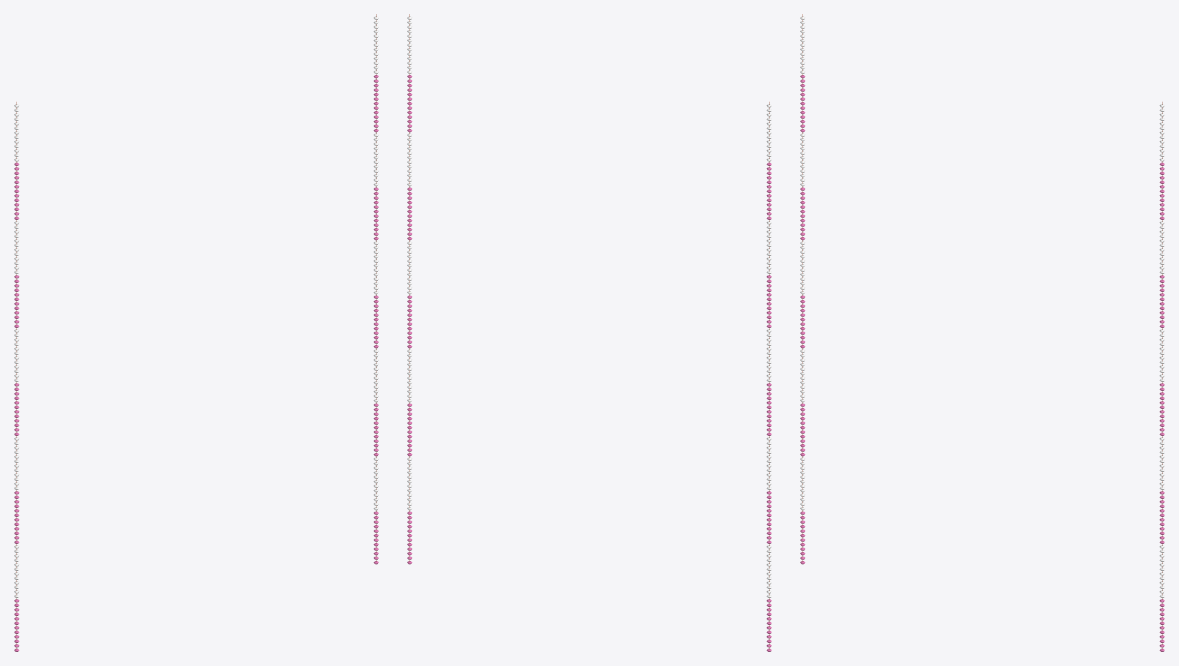
File: Straight_border_mesh.fbx
3 renders of one model, left to right at view 1: azimuth 30°, elevation 25°; view 2: azimuth 150°, elevation 25°; view 3: azimuth 330°, elevation 25°, orthographic.
Parts seen in each view (by area): view 1: Torus.003, Torus.006; view 2: Torus.003, Torus.006; view 3: Torus.006, Torus.003.
Part boxes in pixels (left/top/right/bottom): Torus.003: left=14, top=102, right=19, bottom=651; Torus.006: left=373, top=14, right=378, bottom=564; Torus.003: left=766, top=102, right=771, bottom=651; Torus.006: left=407, top=14, right=412, bottom=564; Torus.006: left=1159, top=102, right=1164, bottom=651; Torus.003: left=800, top=14, right=805, bottom=564.
Bounding box in the file's own units: 4860 × 7016 × 60.
